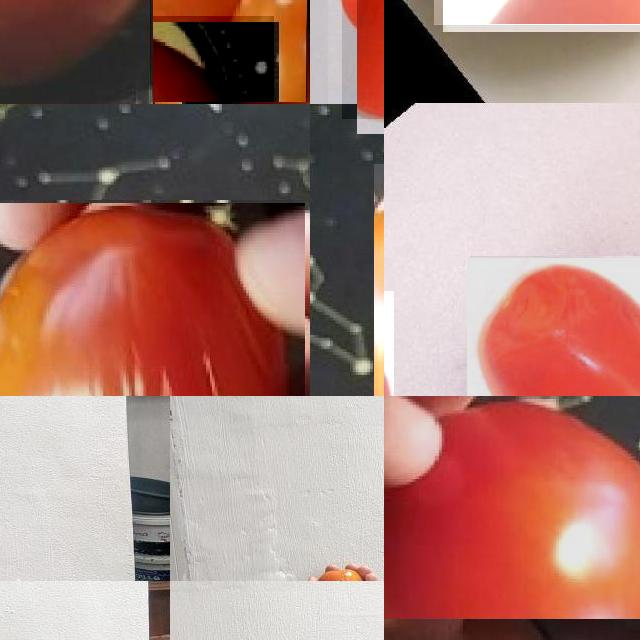0: (384, 396, 640, 619), (150, 0, 310, 102), (0, 0, 153, 104)
1: (0, 203, 305, 396)
Rotten Tomato: (467, 258, 640, 396)
